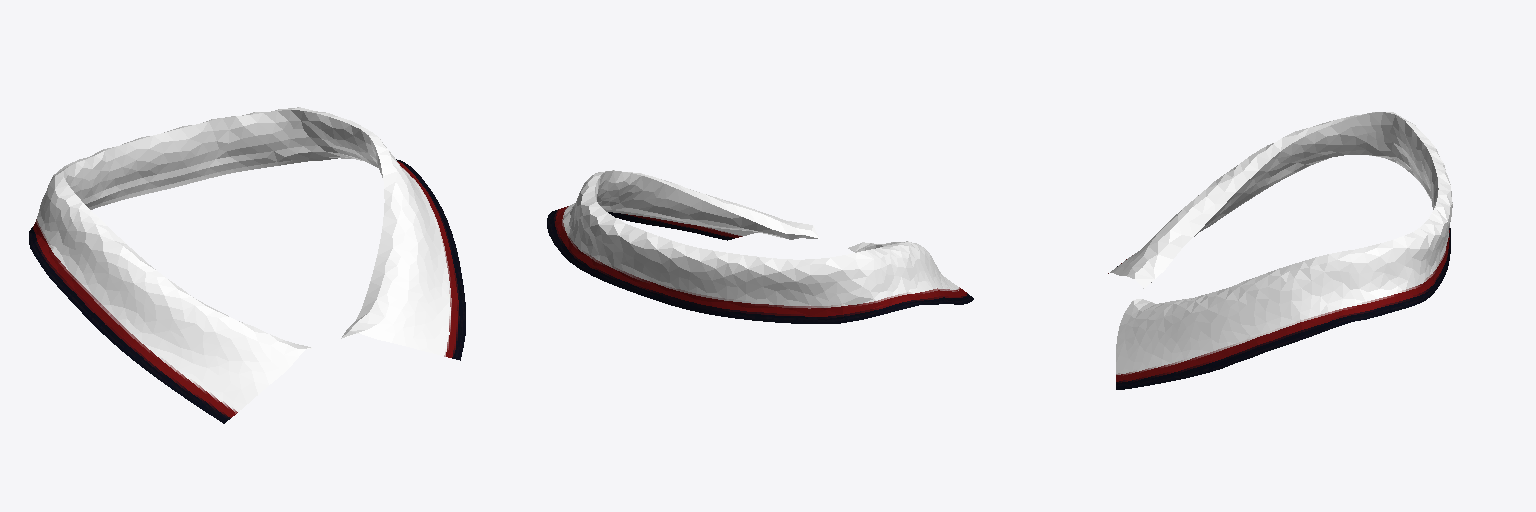
3 views of the same model, side by side, from view 1: azimuth 30°, elevation 25°; view 2: azimuth 150°, elevation 25°; view 3: azimuth 270°, elevation 25° (orthographic).
Parts seen in each view (by area): view 1: pasted__polySurface106 group pasted__polySurface130, pasted__polySurface129 pasted__polySurface106 group; view 2: pasted__polySurface106 group pasted__polySurface130, pasted__polySurface129 pasted__polySurface106 group; view 3: pasted__polySurface106 group pasted__polySurface130, pasted__polySurface129 pasted__polySurface106 group.
Boxes of the visible parts, <box> form: pasted__polySurface106 group pasted__polySurface130: <box>29,107,465,423</box>; pasted__polySurface129 pasted__polySurface106 group: <box>64,110,382,348</box>; pasted__polySurface106 group pasted__polySurface130: <box>547,170,973,323</box>; pasted__polySurface129 pasted__polySurface106 group: <box>595,170,856,252</box>; pasted__polySurface106 group pasted__polySurface130: <box>1108,112,1452,389</box>; pasted__polySurface129 pasted__polySurface106 group: <box>1143,112,1438,288</box>.
Bounding box in the file's own units: 6.78 × 2.61 × 5.38.
2 materials, 1 textured.